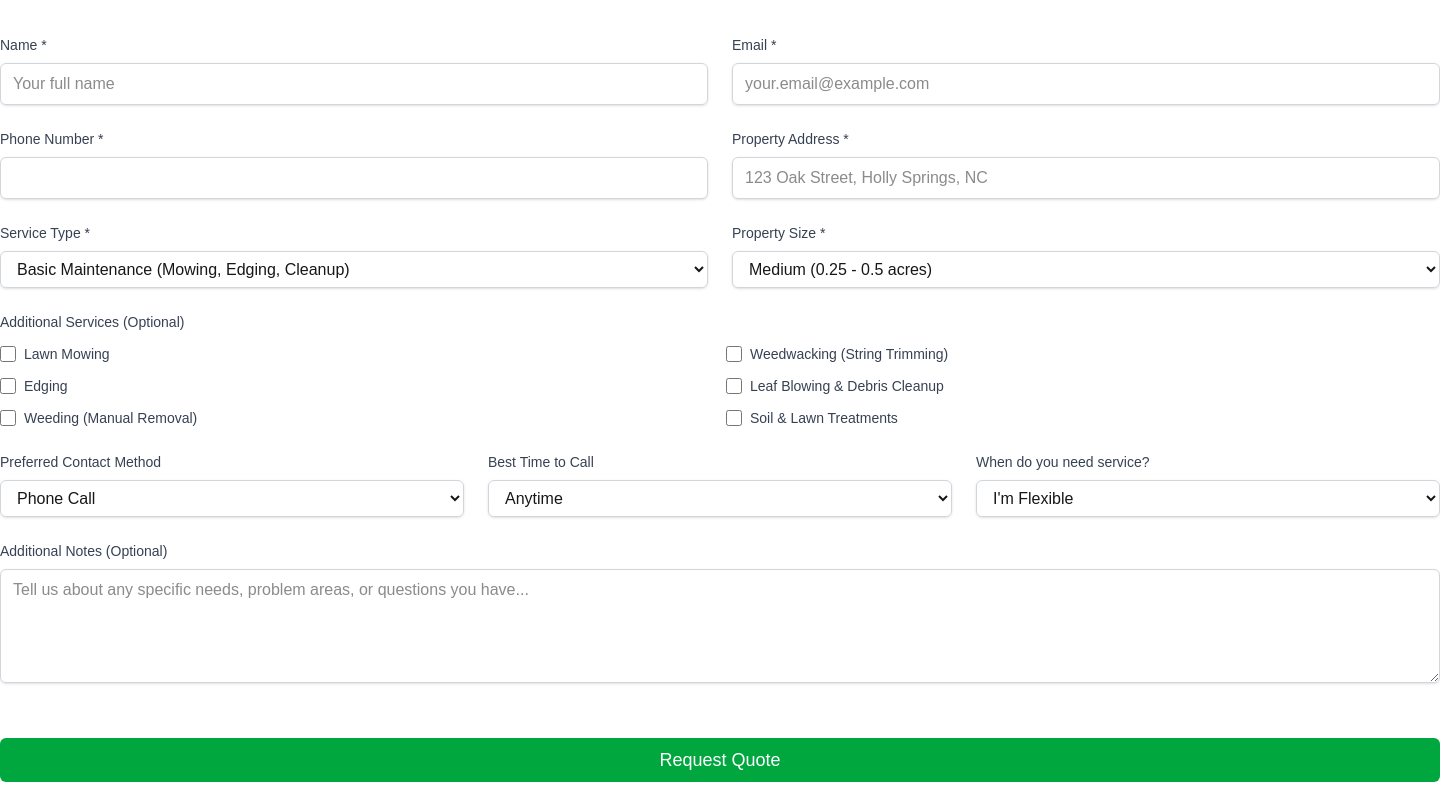
Scenario: QuoteForm Component › Form Validation › shows validation errors for required fields when form is submitted empty
The image size is (1440, 787).
(page scrolled)
Click the button "Request Quote" at (720, 760), box left=0, top=738, right=1439, bottom=782
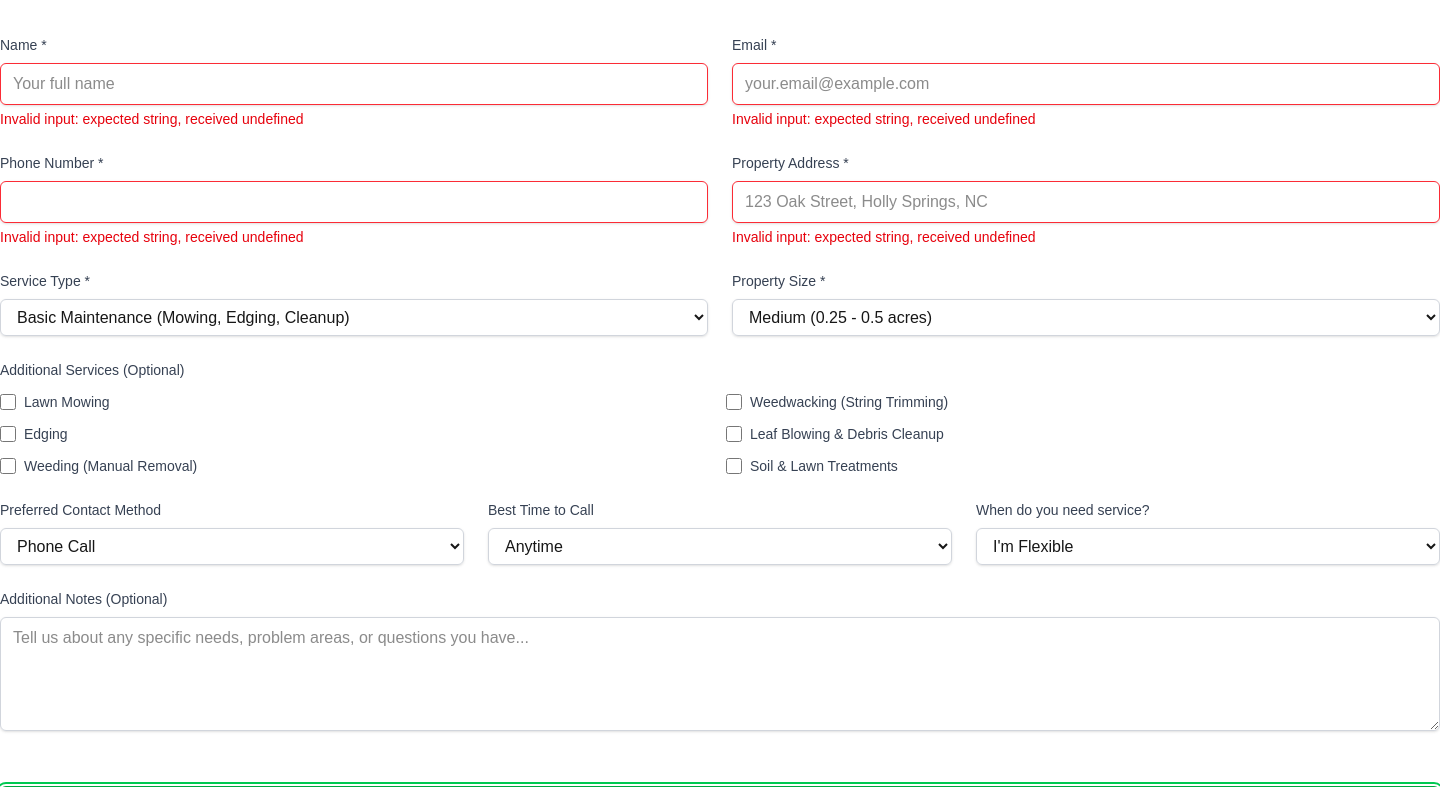
Check: the text "Invalid input: expected string, received undefined" is shown 4 times, box left=0, top=111, right=304, bottom=127; left=732, top=111, right=1036, bottom=127; left=0, top=229, right=304, bottom=245; left=732, top=229, right=1036, bottom=245
